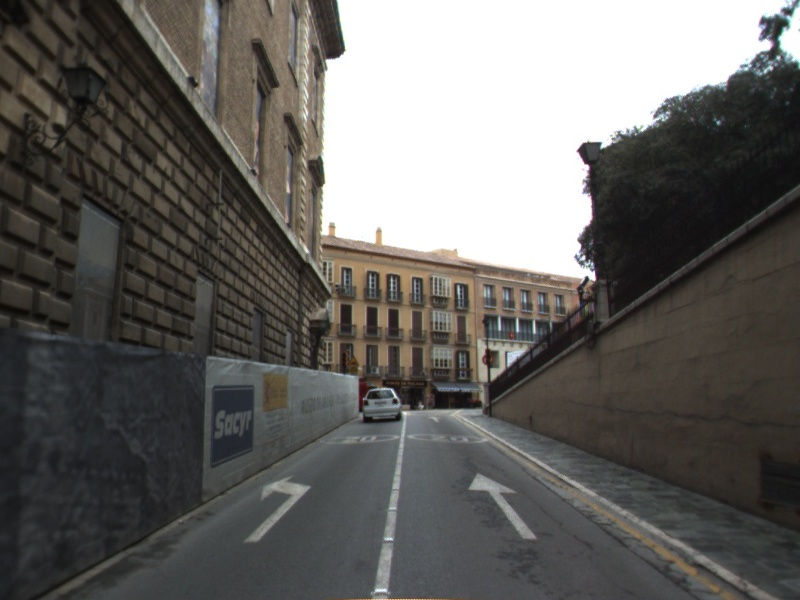LEFT: (241, 474, 313, 544)
STRAIGHT: (466, 471, 539, 541), (426, 414, 442, 424)
